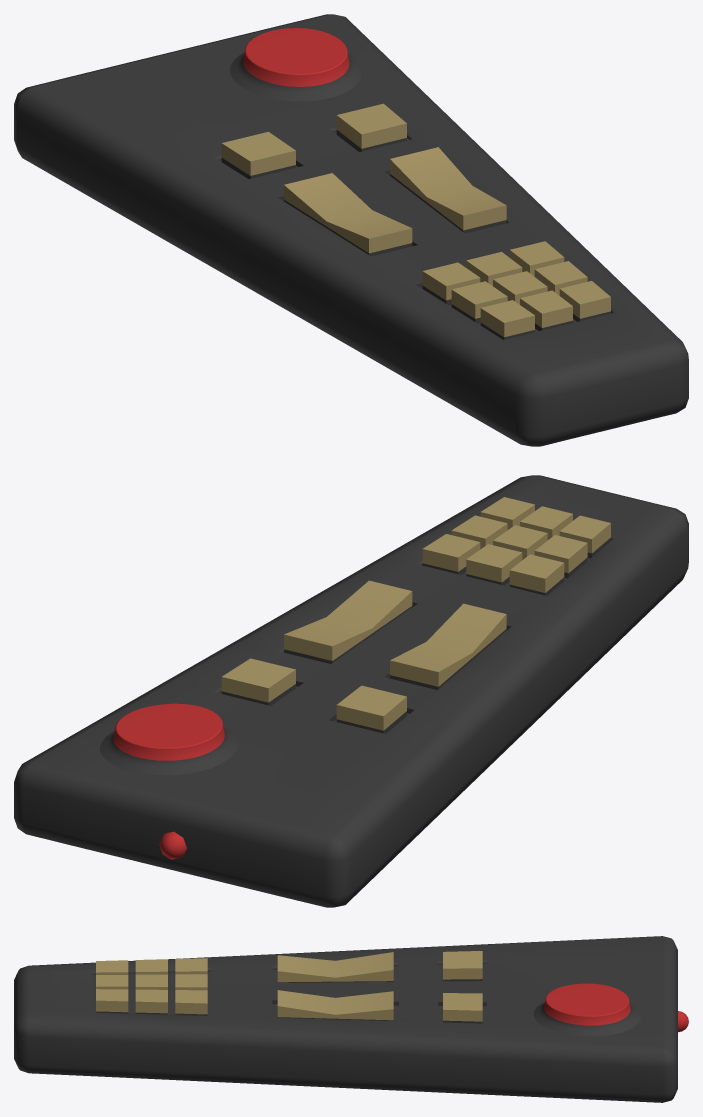
File: Tv_remote_high.fbx
The picture shows the model from 3 angles, top to bottom: view 1: azimuth 30°, elevation 25°; view 2: azimuth 150°, elevation 25°; view 3: azimuth 270°, elevation 25°; orthographic projection. The views are drawn at different scales.
Visible parts, largest first — view 1: Geo_Remote_V2__1_:remote; view 2: Geo_Remote_V2__1_:remote; view 3: Geo_Remote_V2__1_:remote.
Boxes of the visible parts, x1,y1,x2,y2 form: Geo_Remote_V2__1_:remote: (14,14,688,446); Geo_Remote_V2__1_:remote: (14,475,688,907); Geo_Remote_V2__1_:remote: (14,936,688,1102).
Size of the model in its own units: 5.17 by 1.4 by 11.95.
